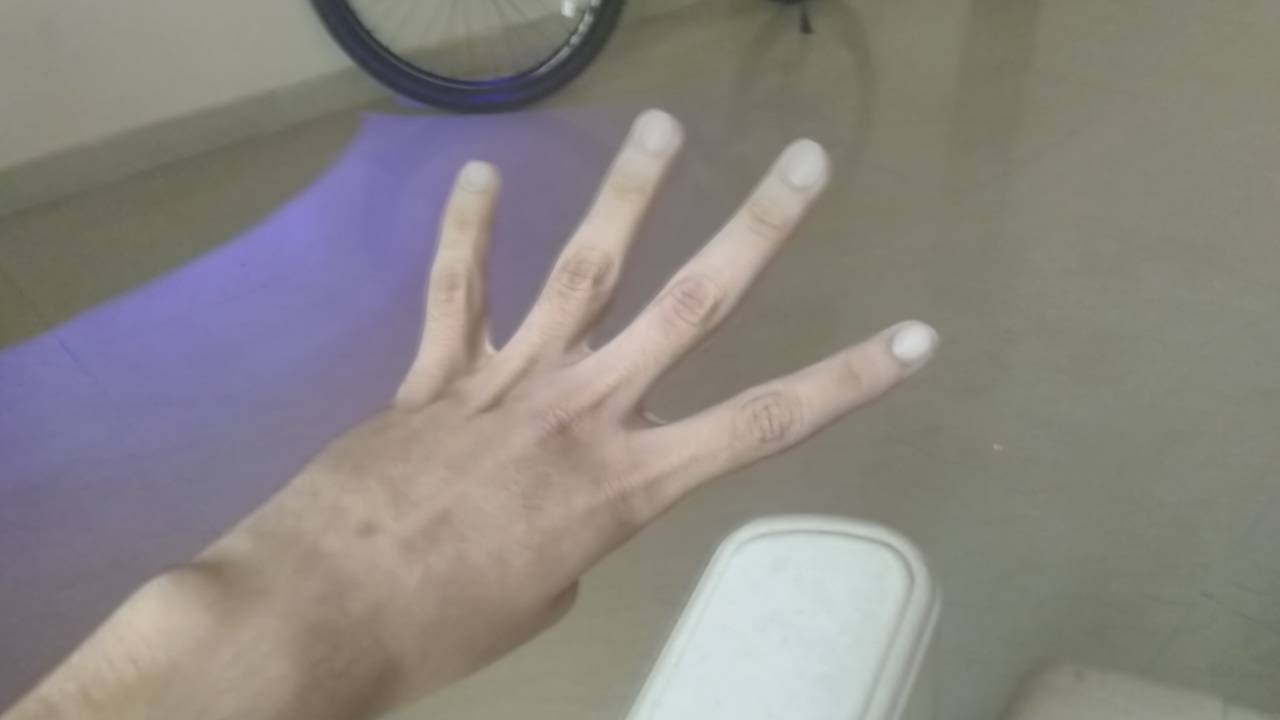fingertip: (858, 314, 960, 372), (760, 132, 844, 196), (608, 100, 692, 162), (438, 148, 506, 210)
